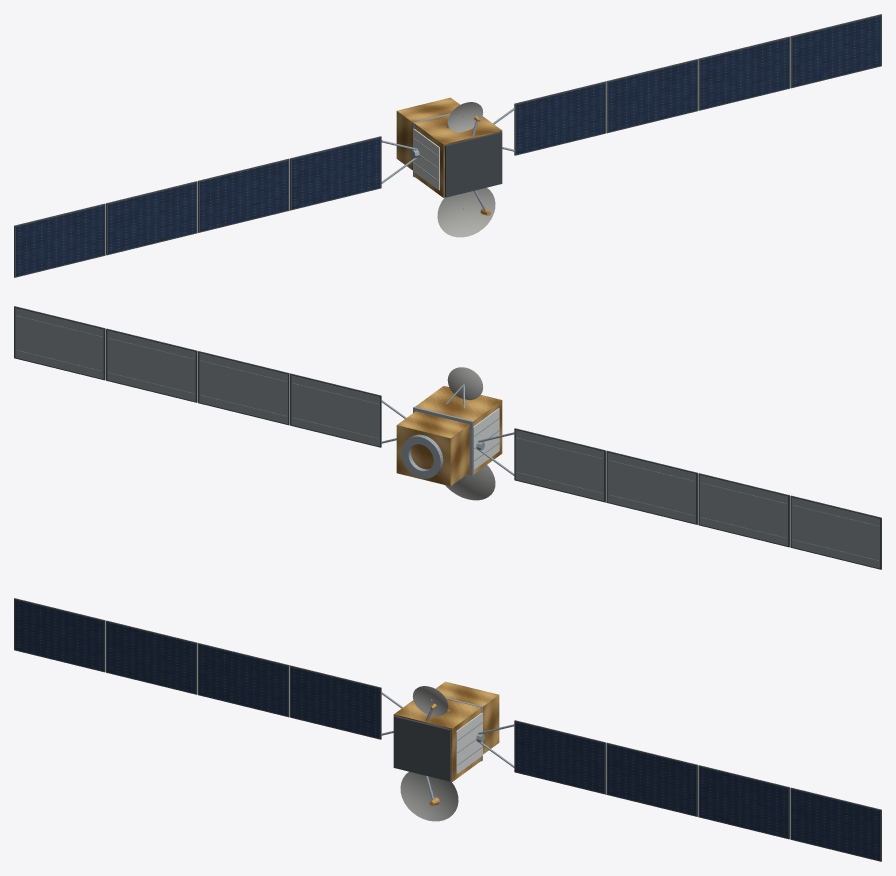
The model's file is ref-spacebus-2000-20777.glb.
3 renders of one model, top to bottom at view 1: azimuth 30°, elevation 25°; view 2: azimuth 150°, elevation 25°; view 3: azimuth 330°, elevation 25°, orthographic.
Parts seen in each view (by area): view 1: Solar cell panel (×8), Solar panel frame (×8), Earth-facing deck, Communications reflector (×2), Payload module, Service module, Radiator face; view 2: Rear array substrate (×8), Solar panel frame (×8), Service module, Payload module, Communications reflector (×2), Launch adapter ring, Radiator face, Module interface; view 3: Solar cell panel (×8), Solar panel frame (×8), Earth-facing deck, Communications reflector (×2), Payload module, Service module, Radiator face.
Part boxes in pixels (x1,y1,x2,y2): Solar cell panel (×8): (16, 16, 880, 276); Solar panel frame (×8): (14, 14, 881, 277); Earth-facing deck: (444, 131, 502, 197); Communications reflector (×2): (437, 102, 495, 237); Payload module: (414, 115, 502, 197); Service module: (396, 97, 460, 170); Radiator face: (413, 128, 439, 190); Rear array substrate (×8): (15, 308, 879, 568); Solar panel frame (×8): (14, 306, 881, 569); Service module: (396, 411, 469, 486); Payload module: (415, 386, 502, 473); Communications reflector (×2): (445, 367, 495, 500); Launch adapter ring: (401, 434, 443, 478); Radiator face: (473, 408, 499, 469); Module interface: (413, 406, 473, 475); Solar cell panel (×8): (15, 600, 879, 860); Solar panel frame (×8): (14, 598, 881, 861); Earth-facing deck: (393, 715, 451, 781); Communications reflector (×2): (400, 686, 458, 821); Payload module: (393, 699, 481, 781); Service module: (435, 681, 499, 754); Radiator face: (456, 712, 482, 774).
Size of the model in its own units: 22.18 by 3.24 by 2.47.
8 materials, 2 textured.
